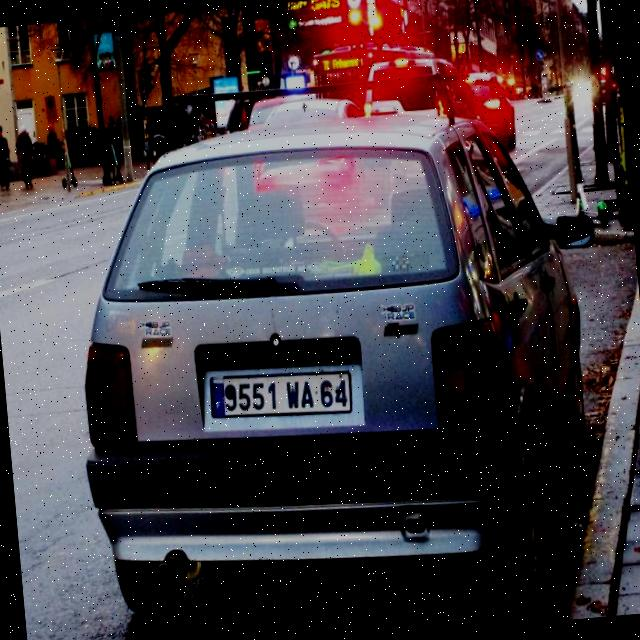EU: (196, 356, 356, 426)
France: (200, 373, 230, 424)
